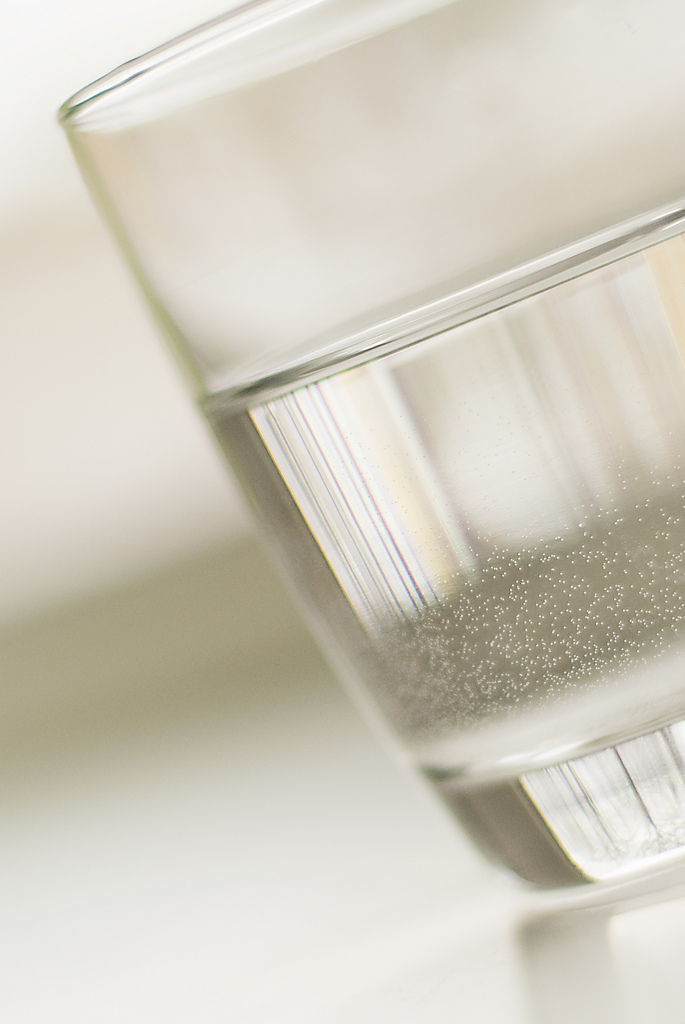glass of water: (58, 6, 685, 893)
